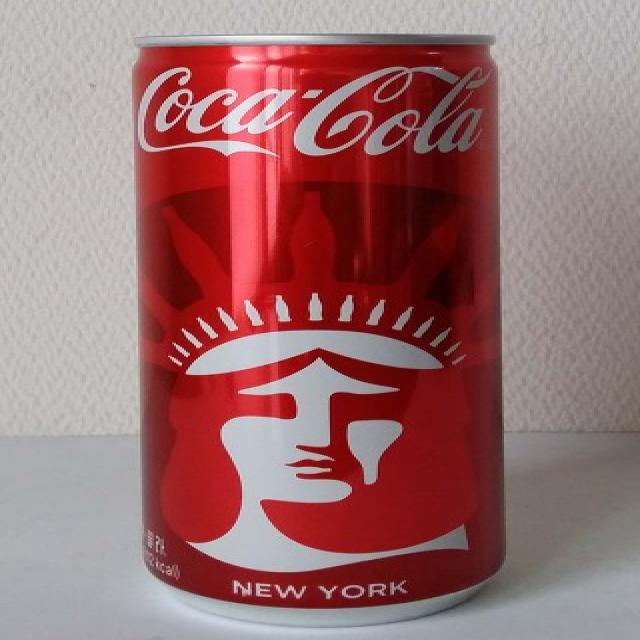coca-cola: (126, 28, 514, 628)
